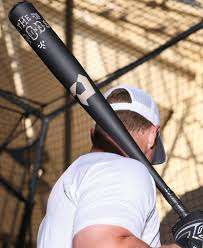baseball bat: (7, 1, 193, 223)
